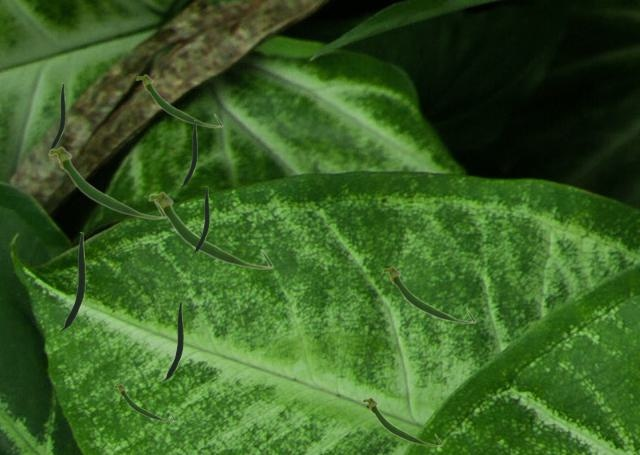french_bean: (147, 191, 273, 269), (47, 146, 166, 219), (381, 265, 475, 323), (135, 73, 222, 127), (361, 396, 442, 446), (59, 232, 84, 330), (113, 383, 175, 421), (162, 301, 182, 380), (48, 83, 64, 149), (180, 120, 196, 186), (192, 186, 208, 252)
